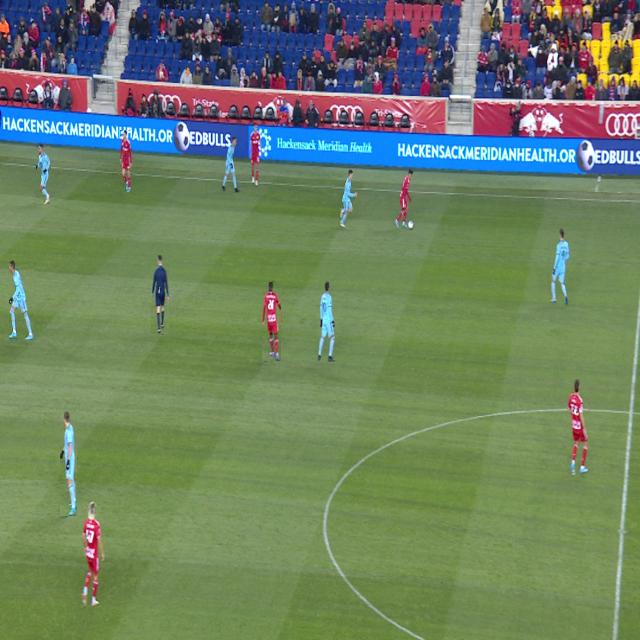football: (408, 220, 414, 229)
player: (82, 501, 105, 606), (9, 260, 34, 340), (568, 379, 588, 475), (60, 412, 77, 516), (550, 228, 570, 305), (263, 282, 281, 361), (318, 282, 335, 361), (395, 170, 413, 229), (340, 170, 358, 228), (222, 137, 239, 192), (36, 144, 50, 204), (250, 122, 262, 186), (120, 131, 132, 193)
referee: (152, 255, 169, 334)
